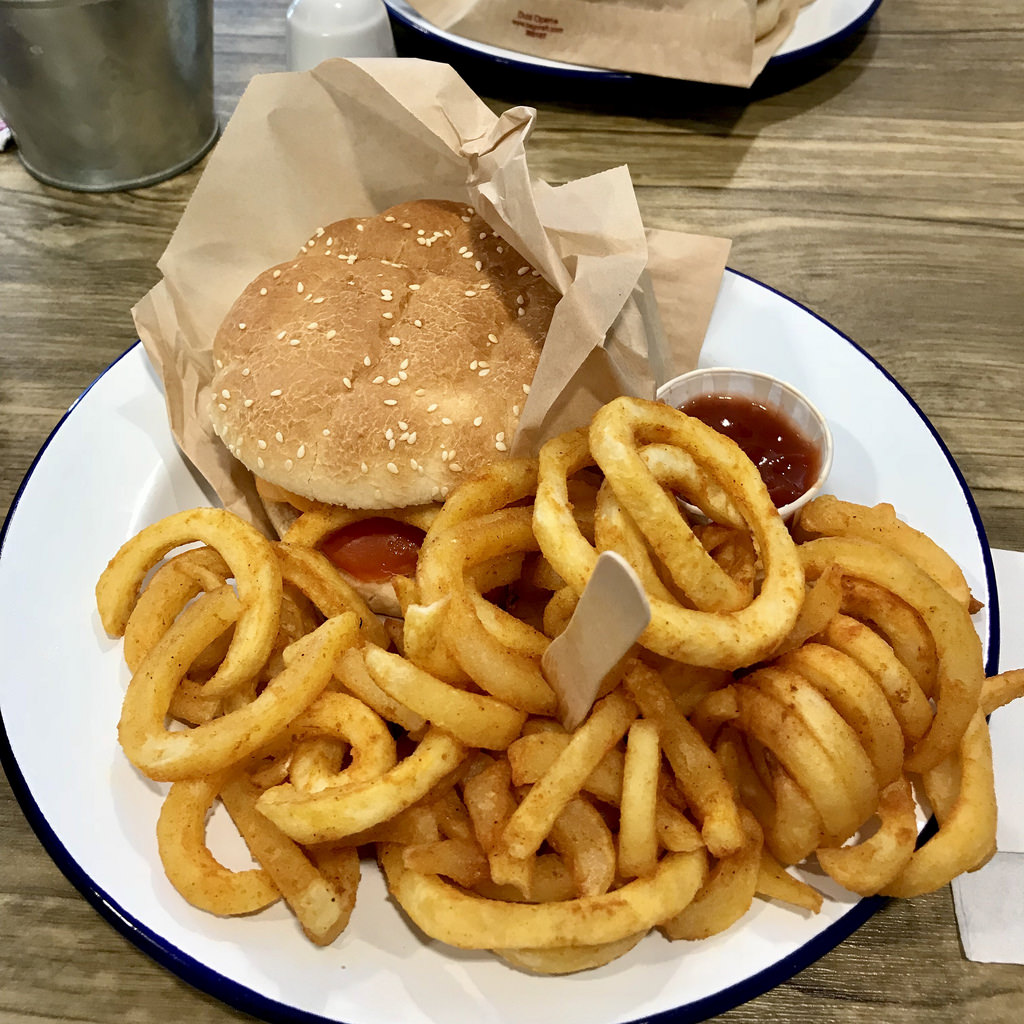slice of bread: (164, 190, 635, 515)
